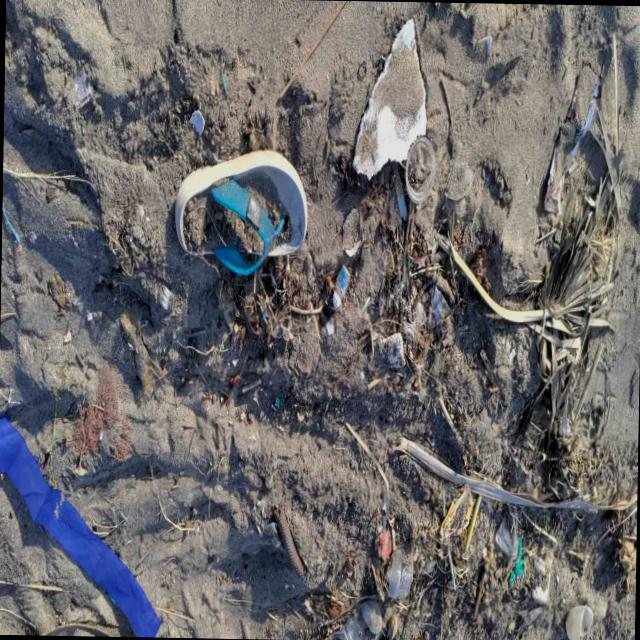dep: (175, 150, 307, 275)
hop_nhua: (405, 137, 436, 205)
rac_huu_co: (443, 172, 618, 437), (399, 438, 626, 515)
xop: (353, 19, 426, 177)
